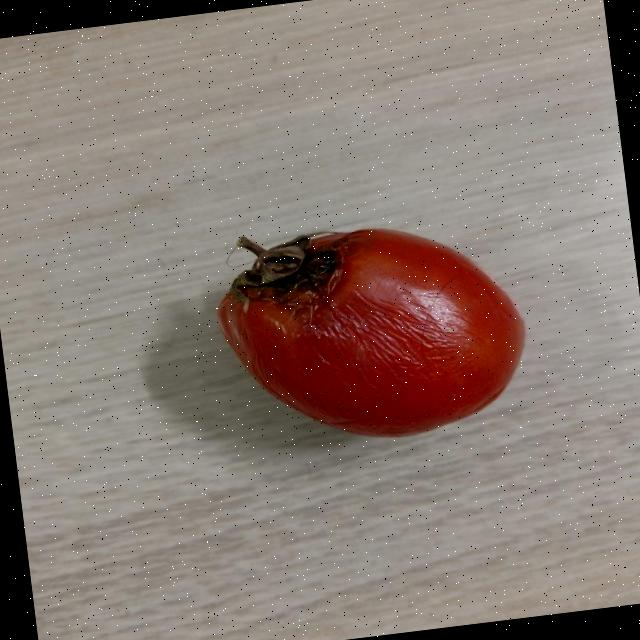Rotten: (210, 206, 533, 457)
